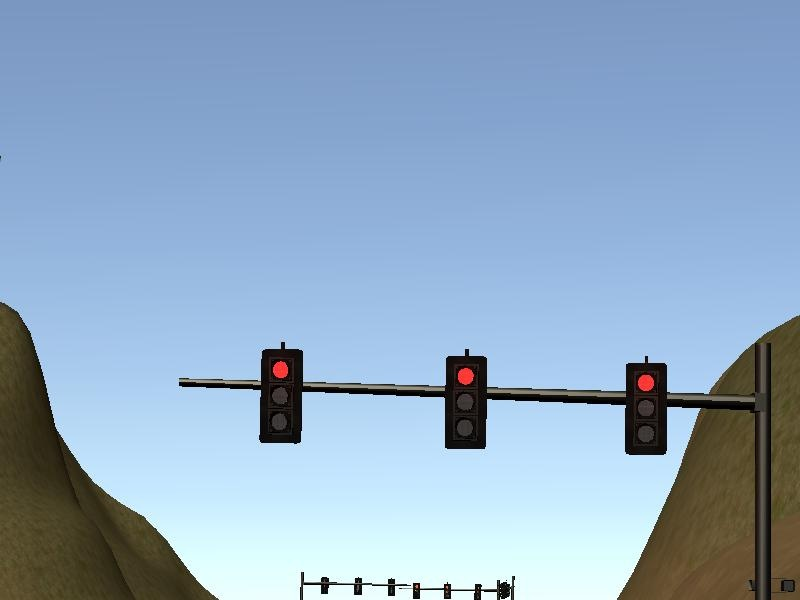red: (258, 349, 304, 445), (446, 356, 489, 450), (626, 364, 668, 457), (414, 584, 422, 600)
